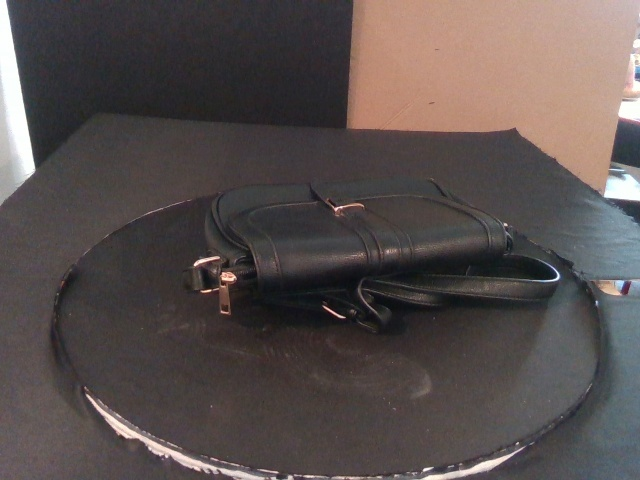bag: (201, 179, 509, 290)
